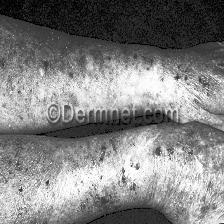Non-Cancerous Skin Condition: (0, 16, 224, 116), (8, 128, 224, 224)
